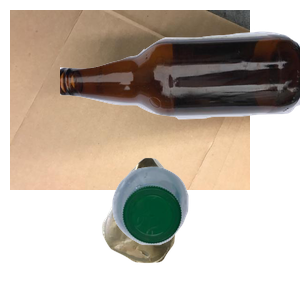cardboard: (10, 10, 250, 190)
glass: (60, 29, 300, 141)
plastic: (110, 164, 300, 300)
trash: (99, 155, 268, 300)
